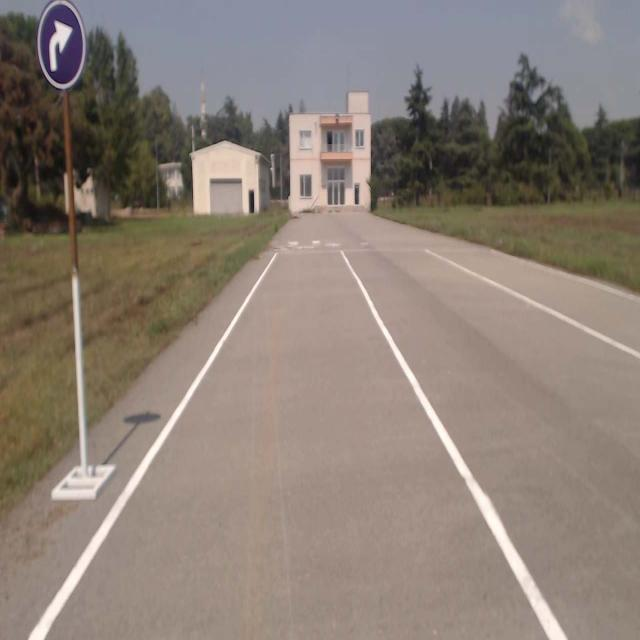sag: (38, 1, 84, 87)
